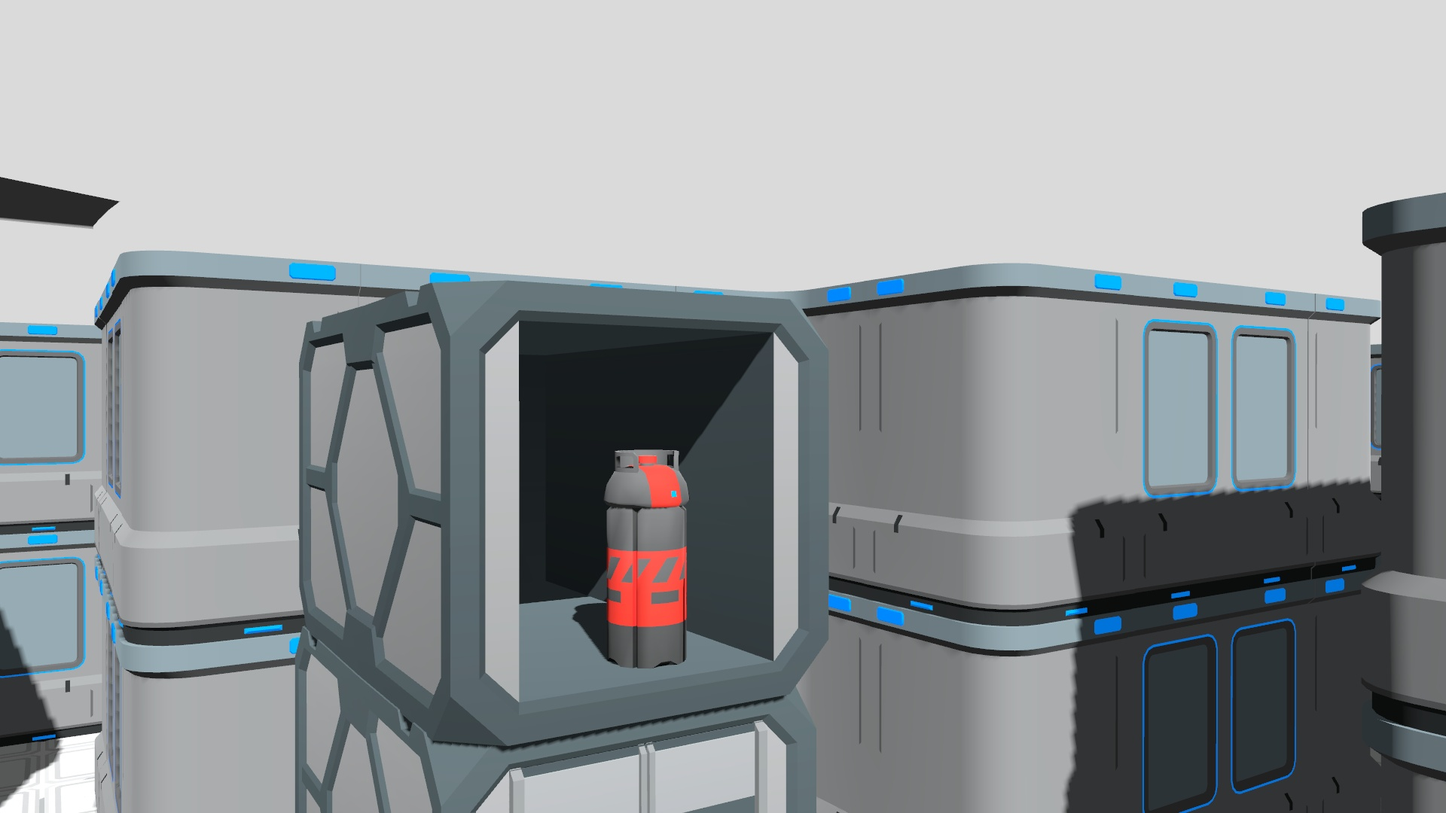red_barrel: (597, 441, 698, 677)
